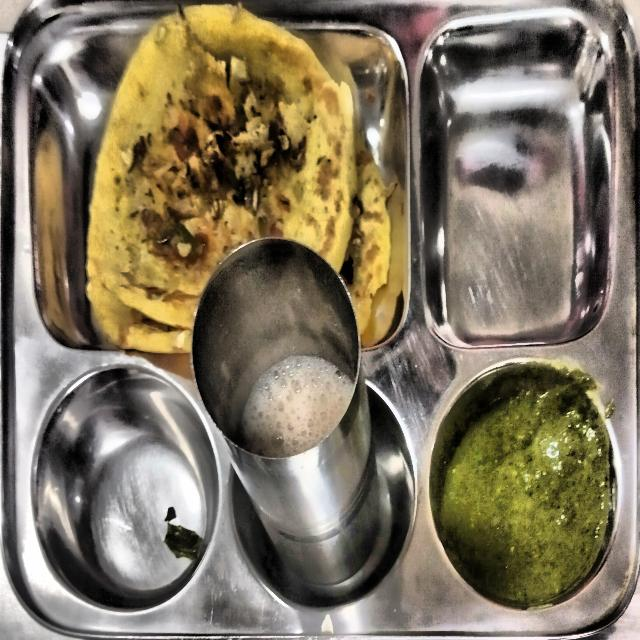tea: (192, 239, 359, 463)
